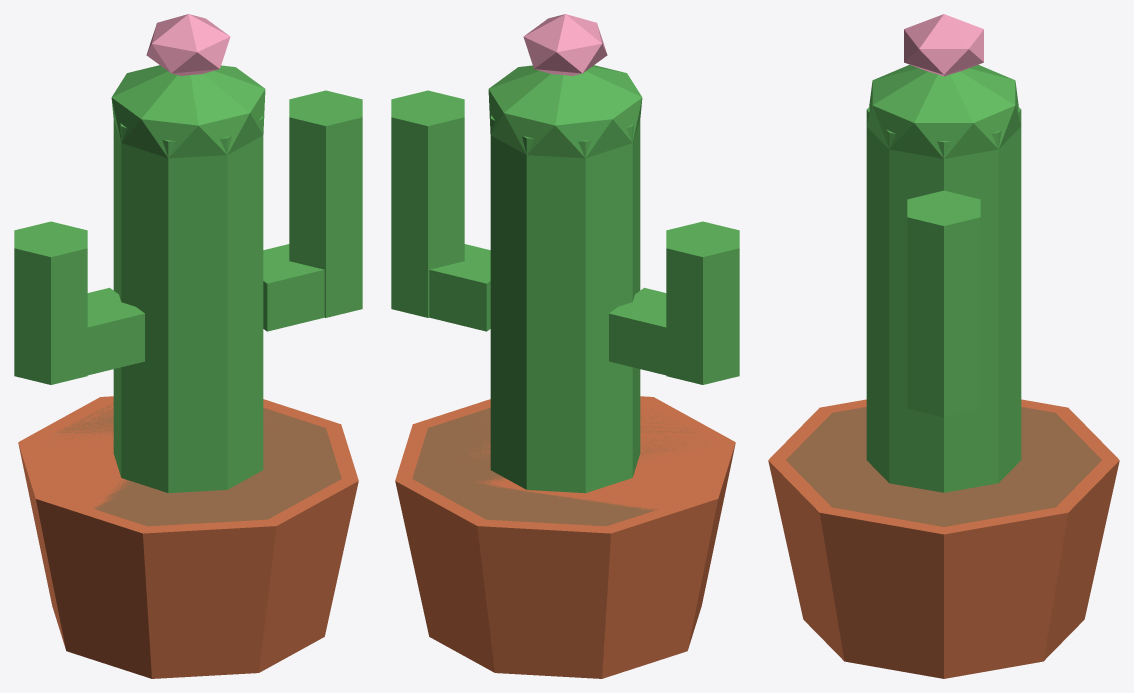
The model's file is plant_cactus.glb.
The picture shows the model from 3 angles, left to right: view 1: azimuth 30°, elevation 25°; view 2: azimuth 150°, elevation 25°; view 3: azimuth 270°, elevation 25°; orthographic projection.
Visible parts, largest first — view 1: plant_cactus; view 2: plant_cactus; view 3: plant_cactus.
Boxes of the visible parts, box(x1,y1,x2,y2) form: plant_cactus: box(14, 14, 362, 678); plant_cactus: box(391, 14, 739, 678); plant_cactus: box(768, 14, 1119, 678).
Size of the model in its own units: 0.114 by 0.19 by 0.1.
